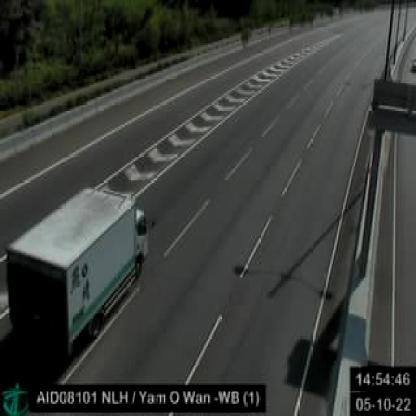Truck: (3, 185, 143, 364)
